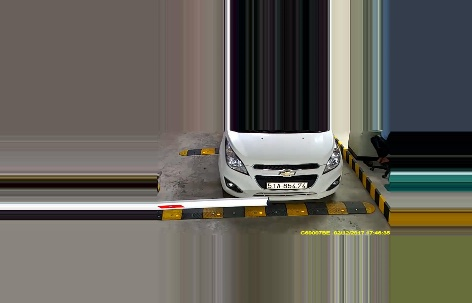plate: (263, 178, 307, 190)
